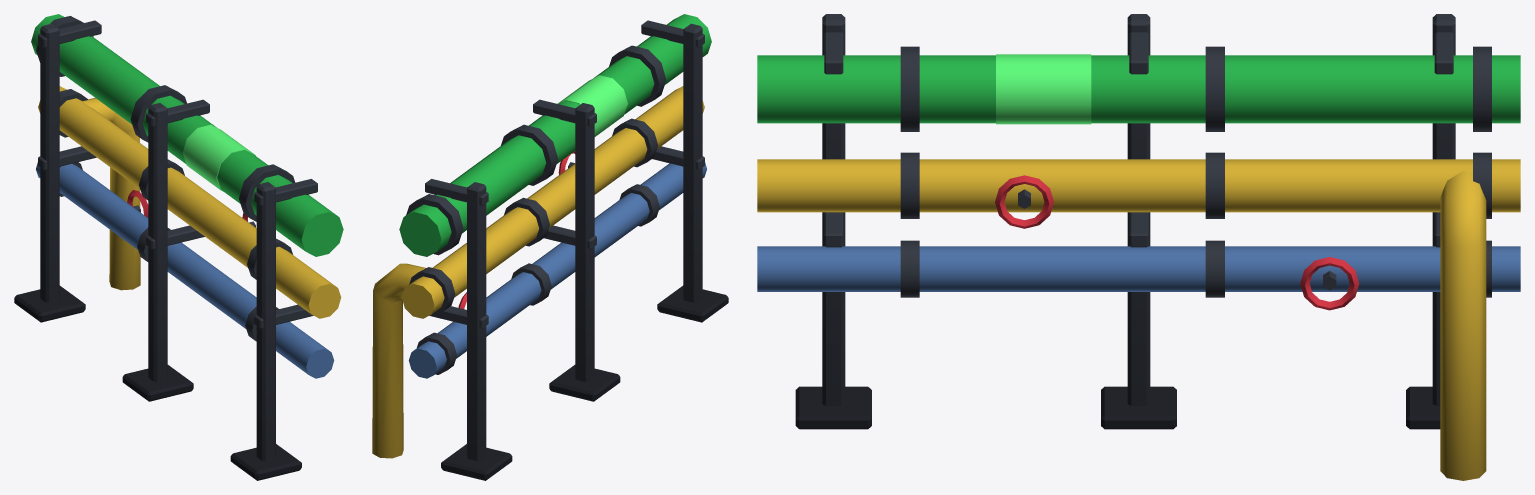
File: lab_pipes.glb
The picture shows the model from 3 angles, left to right: view 1: azimuth 30°, elevation 25°; view 2: azimuth 150°, elevation 25°; view 3: azimuth 270°, elevation 25°; orthographic projection. The views are drawn at different scales.
Parts seen in each view (by area): view 1: Body, Glow; view 2: Body, Glow; view 3: Body, Glow.
Boxes of the visible parts, left/top/right/bottom form: Body: left=14, top=14, right=343, bottom=480; Glow: left=182, top=124, right=255, bottom=191; Body: left=372, top=14, right=728, bottom=480; Glow: left=557, top=75, right=627, bottom=136; Body: left=757, top=14, right=1520, bottom=480; Glow: left=996, top=54, right=1091, bottom=124.
Bounding box in the file's own units: 1.02 × 2.3 × 4.
